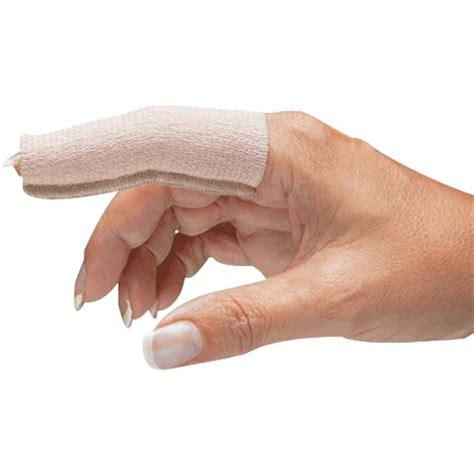gauze: (13, 81, 273, 246)
